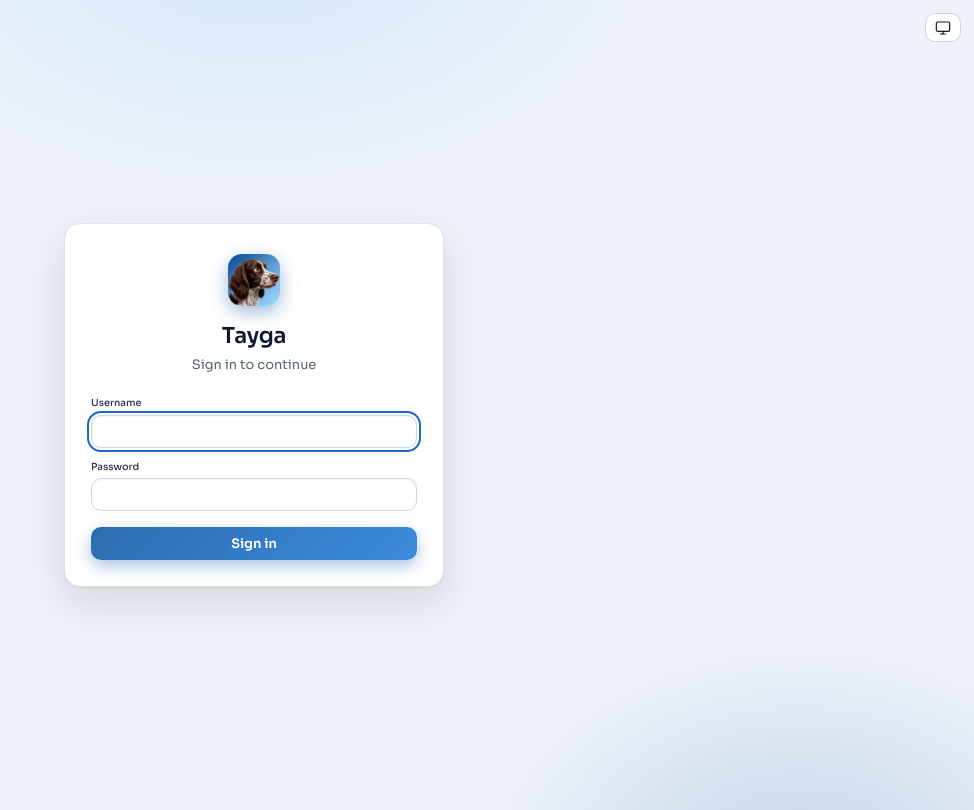
Test case: login › wrong credentials show an alert, keep the username and clear the password
Expected: the heading "Tayga" is shown, x1=222 y1=319 x2=286 y2=352
Type "admin" into the field labelled "Username" at (254, 431), box x1=91 y1=415 x2=417 y2=448
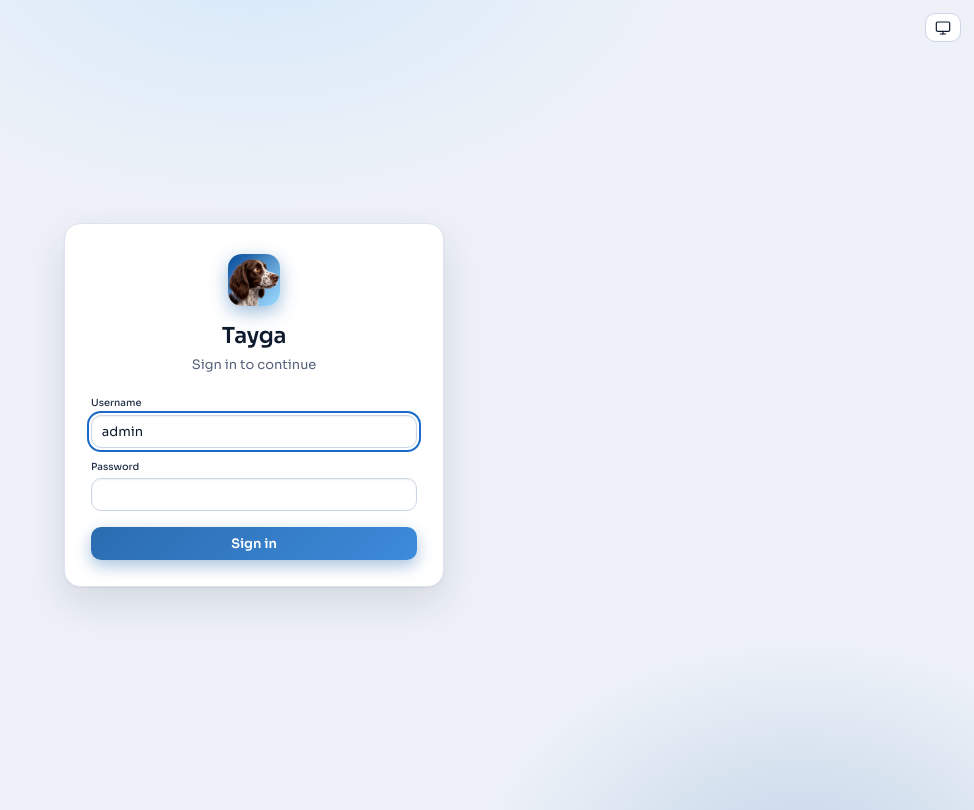
Type "nope" into the password field labelled "Password" at (254, 495), box x1=91 y1=478 x2=417 y2=511
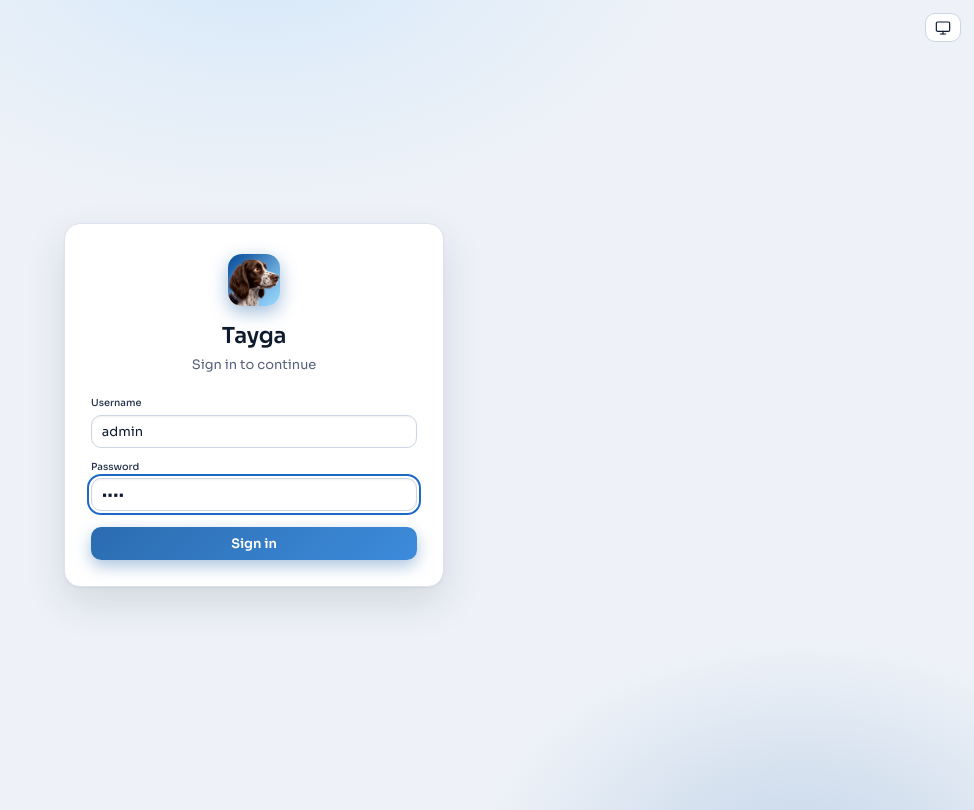
Click the button "Sign in" at (254, 543), box x1=91 y1=527 x2=417 y2=560
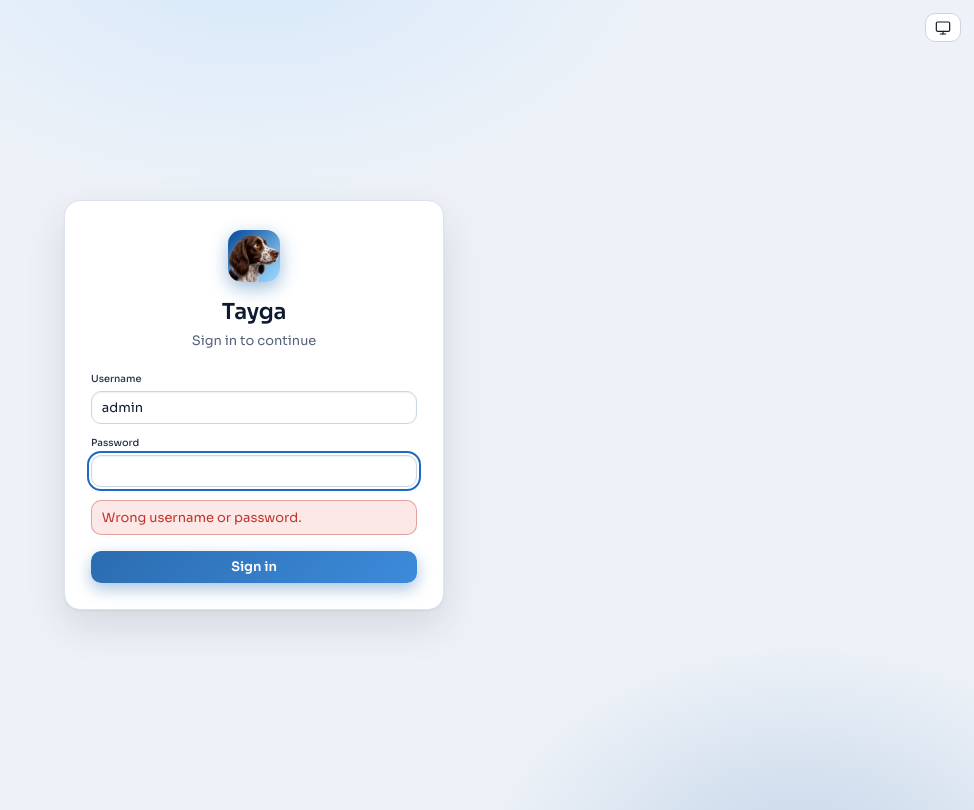
Expected: the message reads "Wrong username or password.", x1=102 y1=509 x2=302 y2=526
Expected: the password field labelled "Password" is empty, x1=91 y1=455 x2=417 y2=487
